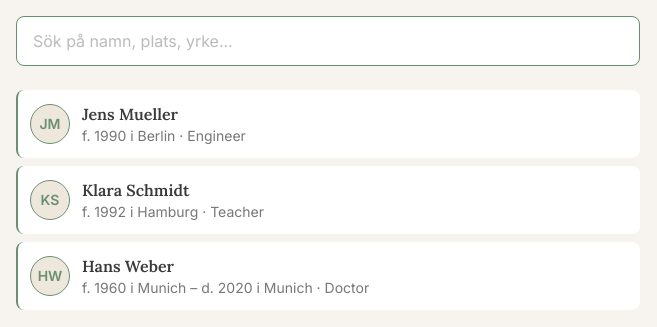
Test: SearchView › shows no results message when nothing matches
The width and height of the screenshot is (657, 327).
Type "ZZZZNONEXISTENT" into the field with placeholder "Sök på namn, plats, yrke..." at (328, 41), box [16,16,640,66]
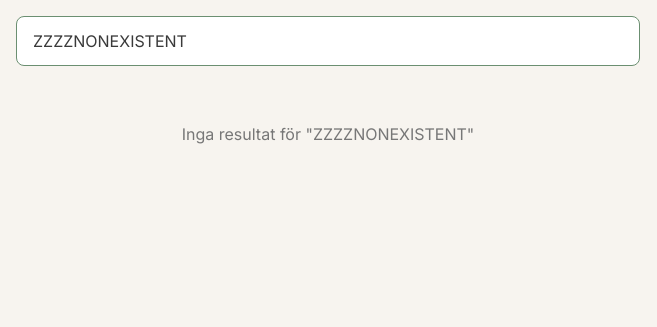
Now the link "Jens" is gone
Now the link "Klara" is gone
Now the link "Hans" is gone
